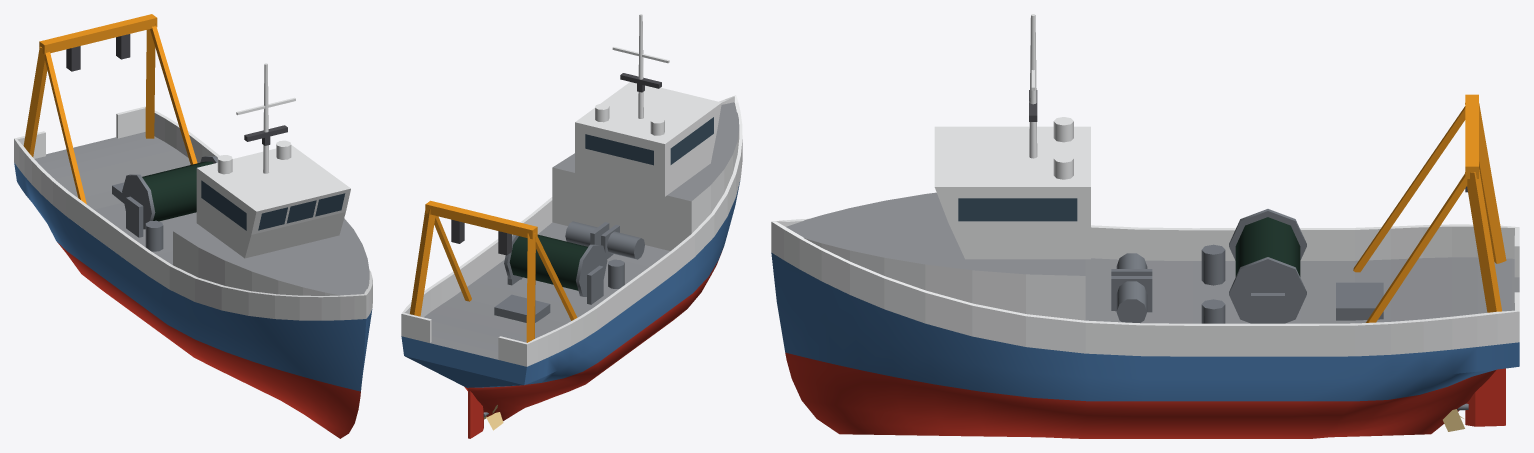
The model's file is ambient_fishing_boat.fbx.
The picture shows the model from 3 angles, left to right: view 1: azimuth 30°, elevation 25°; view 2: azimuth 150°, elevation 25°; view 3: azimuth 270°, elevation 25°; orthographic projection. The views are drawn at different scales.
Parts seen in each view (by area): view 1: ambient_fishing_boat; view 2: ambient_fishing_boat; view 3: ambient_fishing_boat.
Part boxes in pixels (x1,y1,x2,y2): ambient_fishing_boat: (14,14,372,438); ambient_fishing_boat: (401,14,742,438); ambient_fishing_boat: (771,14,1519,438).
Bounding box in the file's own units: 6.8 × 13.6 × 22.
